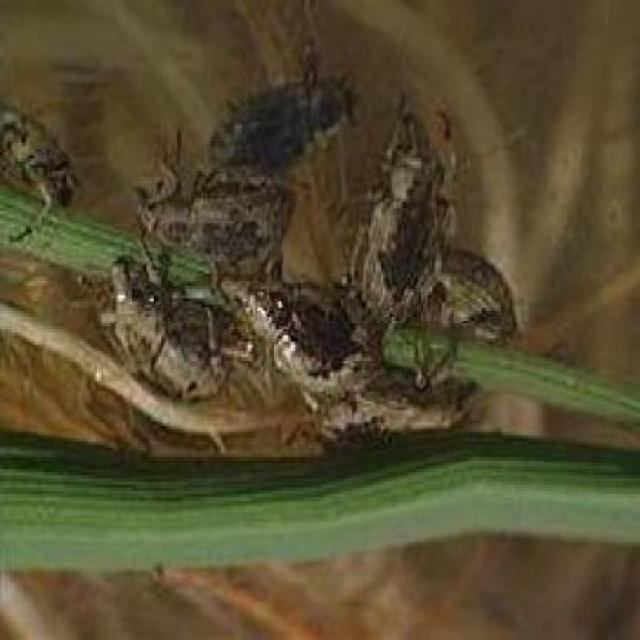rice-bug: (100, 76, 525, 441), (0, 98, 77, 230)
